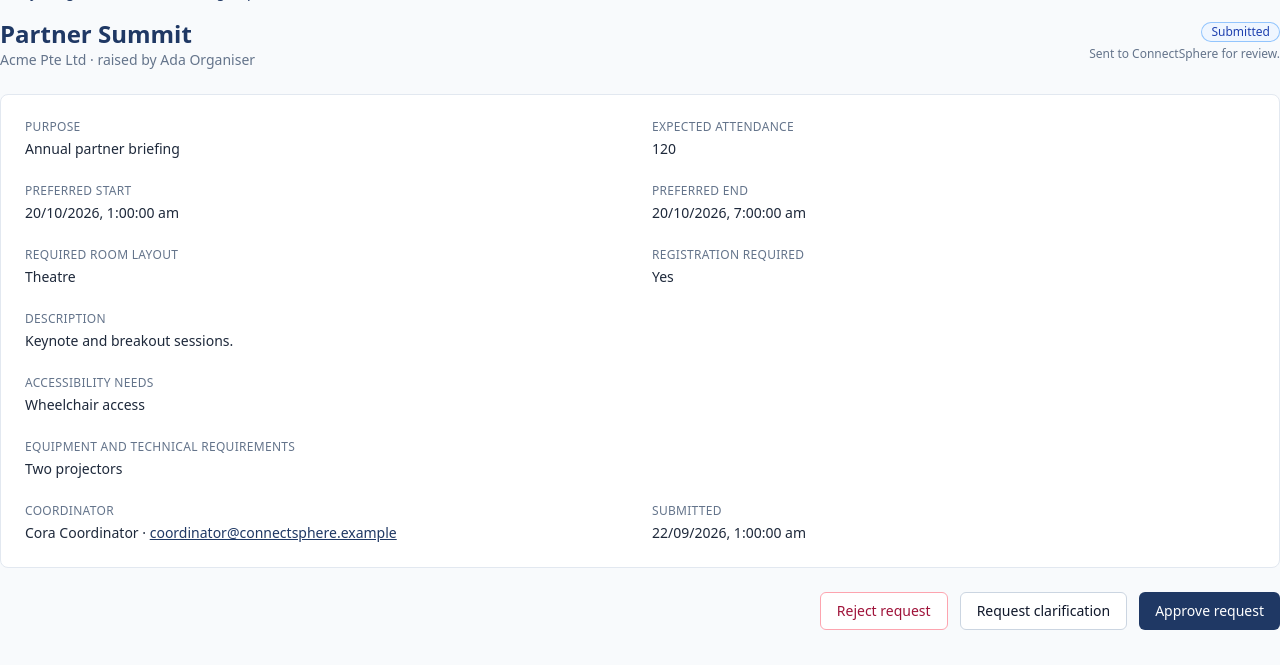
CoordinatorEventDetail › SCRUM-49 AC4: a clarification request without a message is not sent
Click the button "Request clarification". click: (1043, 611)
box: [960,592,1127,630]
(page scrolled)
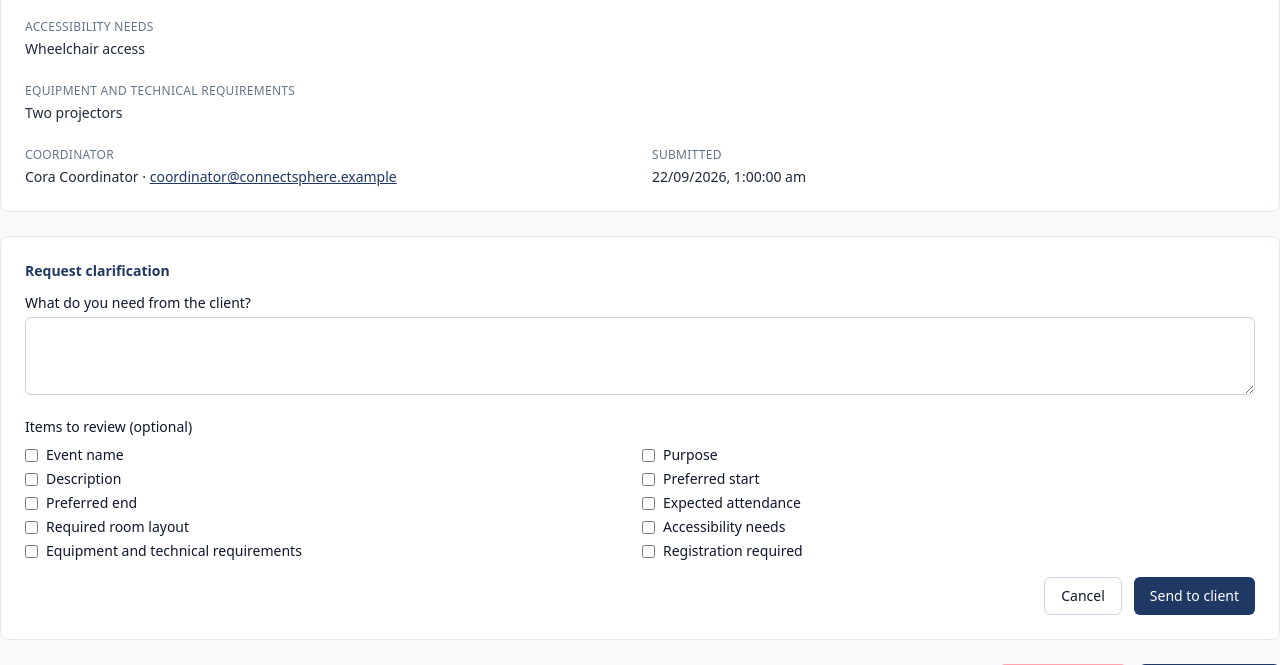
Click the button "Send to client". click: (1194, 596)
box: [1134,577,1255,615]
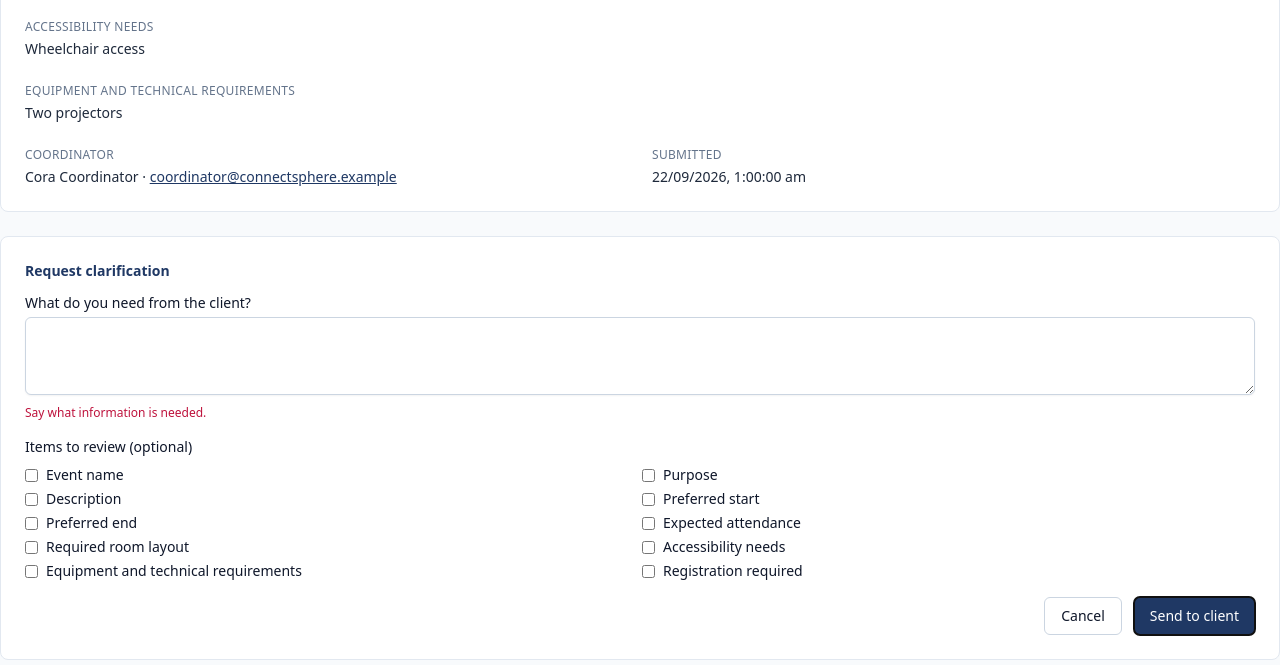
Check: the text "Say what information is needed." is shown, box [25,404,206,421]
